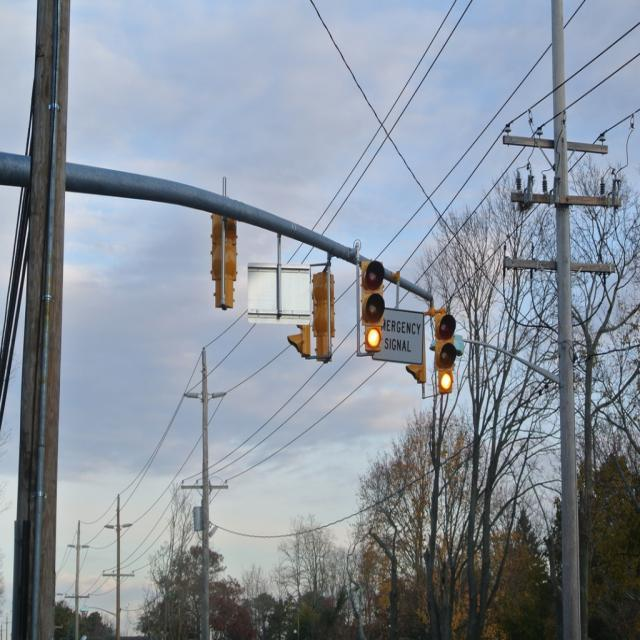off traffic light: (286, 252, 335, 365), (210, 175, 237, 313)
traffic light: (356, 241, 386, 354), (432, 302, 457, 401)
